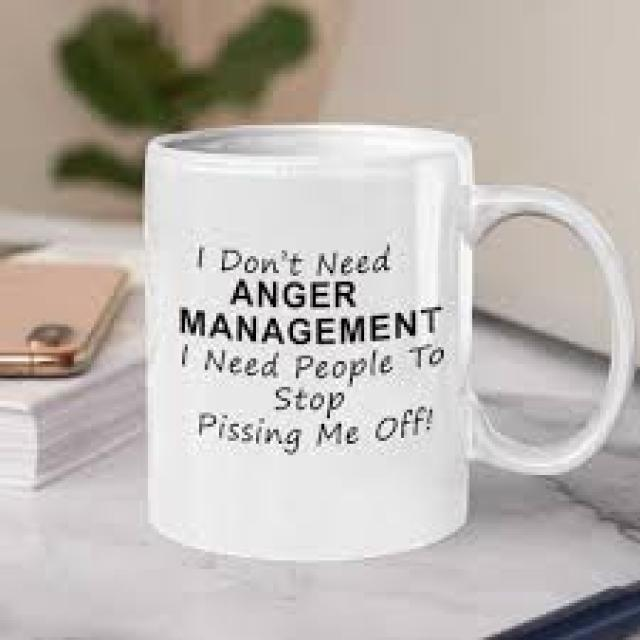taza: (119, 109, 634, 566)
